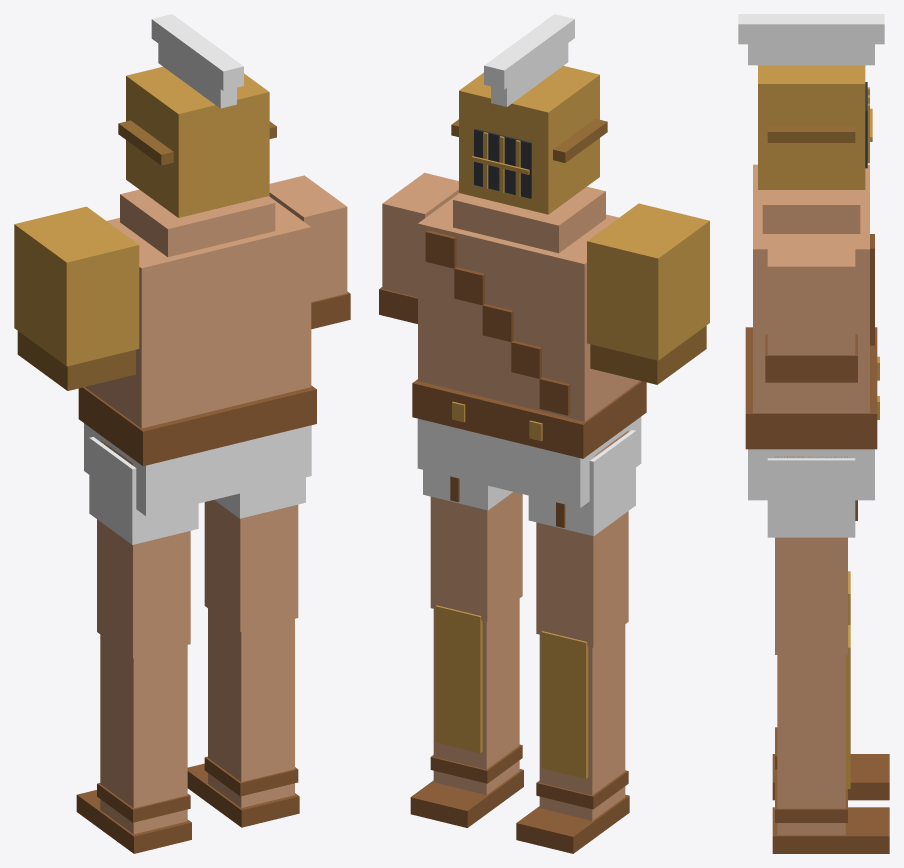
Rendered from GLADIATOR.gltf.
3 views of the same model, side by side, from view 1: azimuth 30°, elevation 25°; view 2: azimuth 150°, elevation 25°; view 3: azimuth 270°, elevation 25° (orthographic). The views are drawn at different scales.
Visible parts, largest first — view 1: GLADIATOR; view 2: GLADIATOR; view 3: GLADIATOR.
Boxes of the visible parts, <box> form: GLADIATOR: <box>14,14,350,853</box>; GLADIATOR: <box>379,14,709,853</box>; GLADIATOR: <box>738,14,889,853</box>.
Size of the model in its own units: 0.695 by 1.79 by 0.31.
